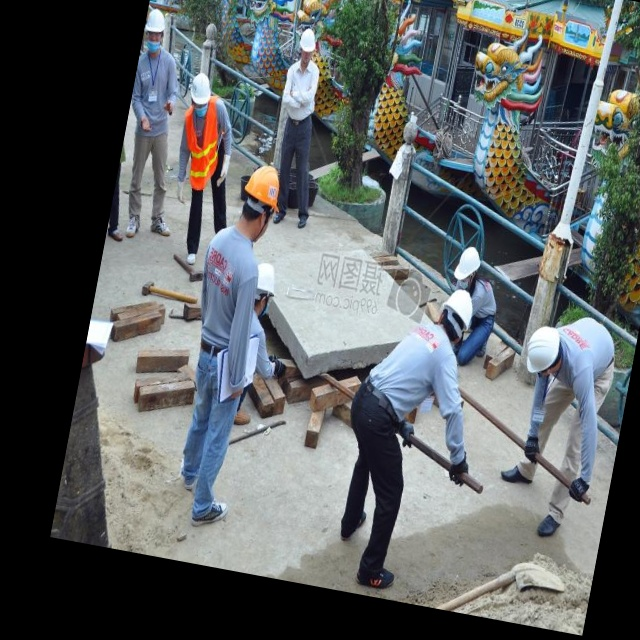Con_Casco: (235, 159, 287, 238), (140, 5, 169, 57), (294, 26, 321, 70)
